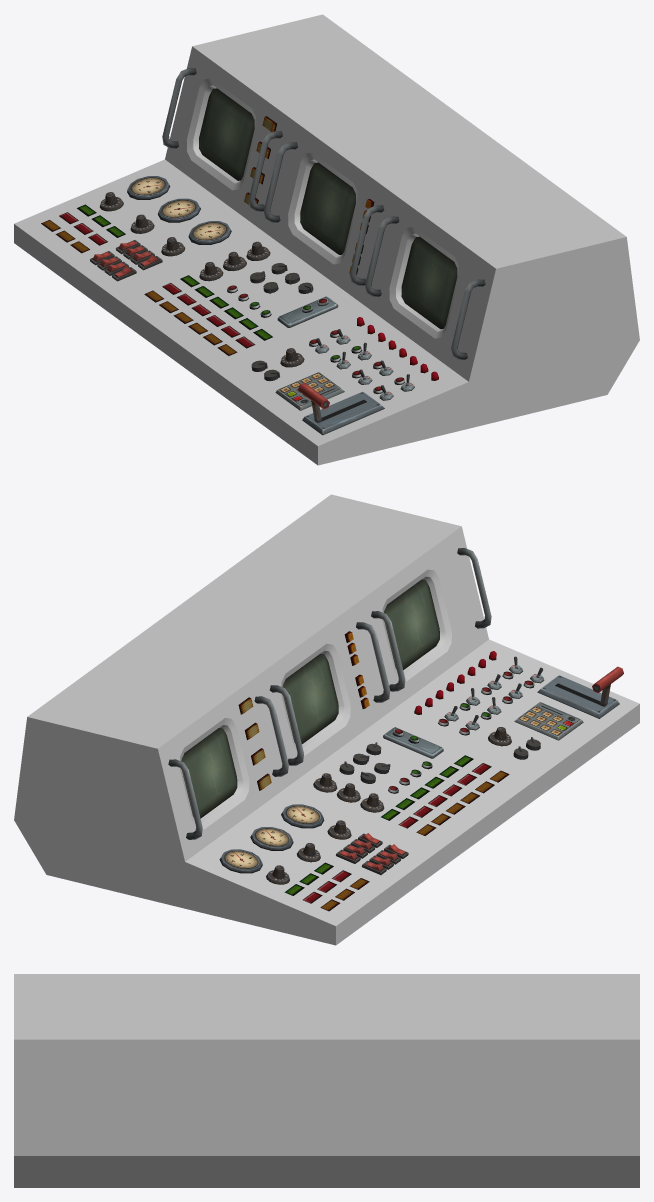
Rendered from ctrlPanel_middle02_C.FBX.
The picture shows the model from 3 angles, top to bottom: view 1: azimuth 30°, elevation 25°; view 2: azimuth 150°, elevation 25°; view 3: azimuth 270°, elevation 25°; orthographic projection. The views are drawn at different scales.
Parts seen in each view (by area): view 1: ctrlPanel_middle02_C, ctrlPanel_buttons, screen_computer03, screen_computer02, screen_computer01, ctrlPanel_gauges; view 2: ctrlPanel_middle02_C, ctrlPanel_buttons, screen_computer01, screen_computer02, screen_computer03, ctrlPanel_gauges; view 3: ctrlPanel_middle02_C.
Boxes of the visible parts, box(x1,y1,x2,y2) form: ctrlPanel_middle02_C: box(14, 14, 639, 465); ctrlPanel_buttons: box(41, 116, 438, 394); screen_computer03: box(401, 236, 457, 329); screen_computer02: box(300, 162, 355, 254); screen_computer01: box(199, 88, 254, 180); ctrlPanel_gauges: box(127, 176, 231, 244); ctrlPanel_middle02_C: box(14, 494, 639, 945); ctrlPanel_buttons: box(238, 631, 534, 911); screen_computer01: box(181, 728, 237, 818); screen_computer02: box(282, 653, 338, 743); screen_computer03: box(384, 579, 439, 669); ctrlPanel_gauges: box(219, 804, 324, 873); ctrlPanel_middle02_C: box(14, 974, 639, 1187).
Bounding box in the file's own units: 122 × 55.64 × 200.
